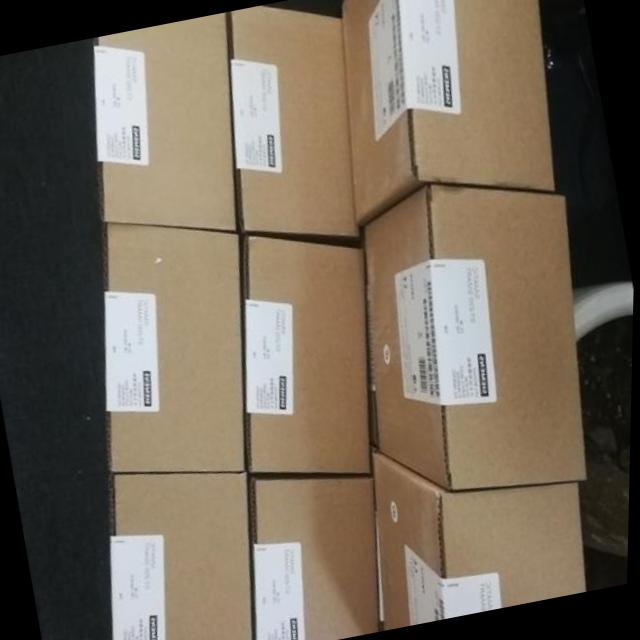box: (0, 223, 248, 543), (0, 14, 237, 308), (364, 185, 590, 491), (344, 0, 556, 228), (376, 451, 591, 630), (29, 474, 255, 640), (227, 6, 364, 249), (245, 234, 373, 475), (253, 476, 382, 640)
